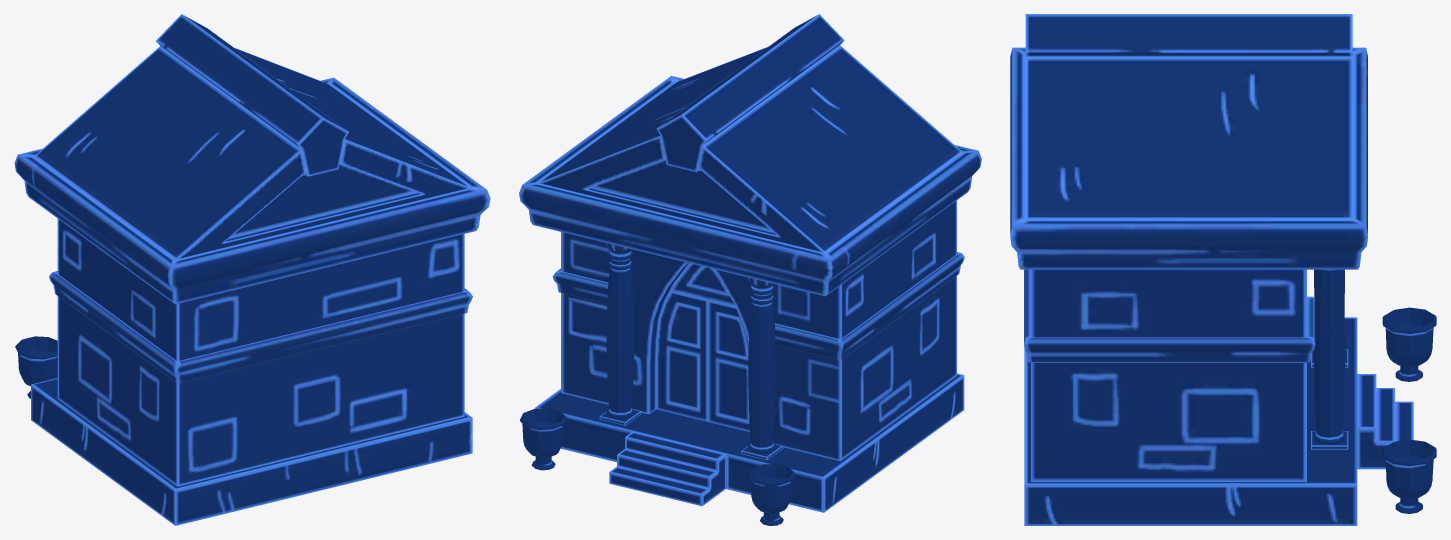
The model's file is Mausoleum.glb.
3 views of the same model, side by side, from view 1: azimuth 30°, elevation 25°; view 2: azimuth 150°, elevation 25°; view 3: azimuth 270°, elevation 25° (orthographic). The views are drawn at different scales.
Visible parts, largest first — view 1: Mausoleum; view 2: Mausoleum; view 3: Mausoleum.
Part boxes in pixels (left/top/right/bottom): Mausoleum: left=14, top=14, right=490, bottom=525; Mausoleum: left=519, top=14, right=981, bottom=525; Mausoleum: left=1010, top=14, right=1436, bottom=525.
Size of the model in its own units: 0.1721 by 0.1904 by 0.1717.
Materials: 1 (1 with a texture image).
